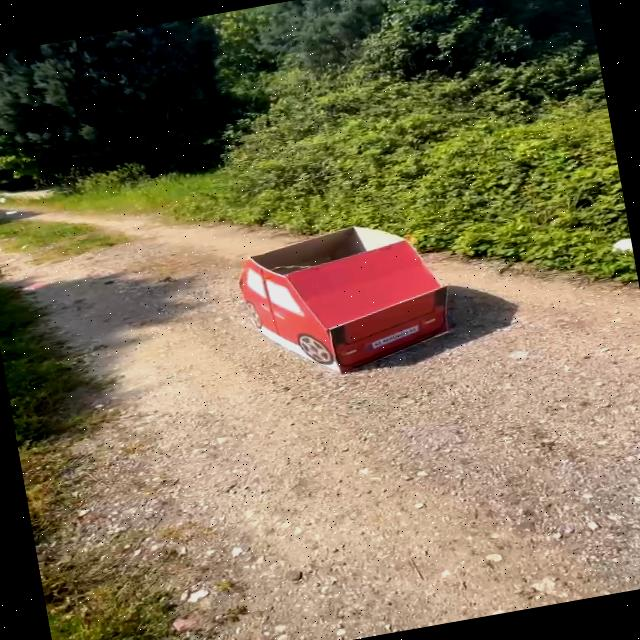red_car: (203, 195, 504, 406)
